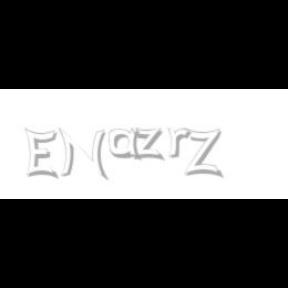E: (24, 128, 57, 180)
N: (57, 128, 106, 180)
Z: (184, 128, 222, 178)
a: (108, 128, 145, 160)
r: (168, 128, 194, 158)
z: (130, 128, 166, 160)
